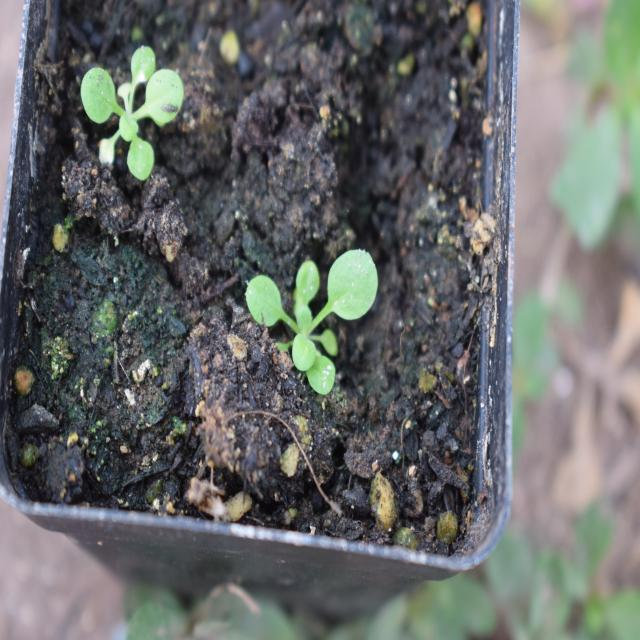Shepherd_Purse: (240, 230, 397, 412), (84, 40, 208, 186)
